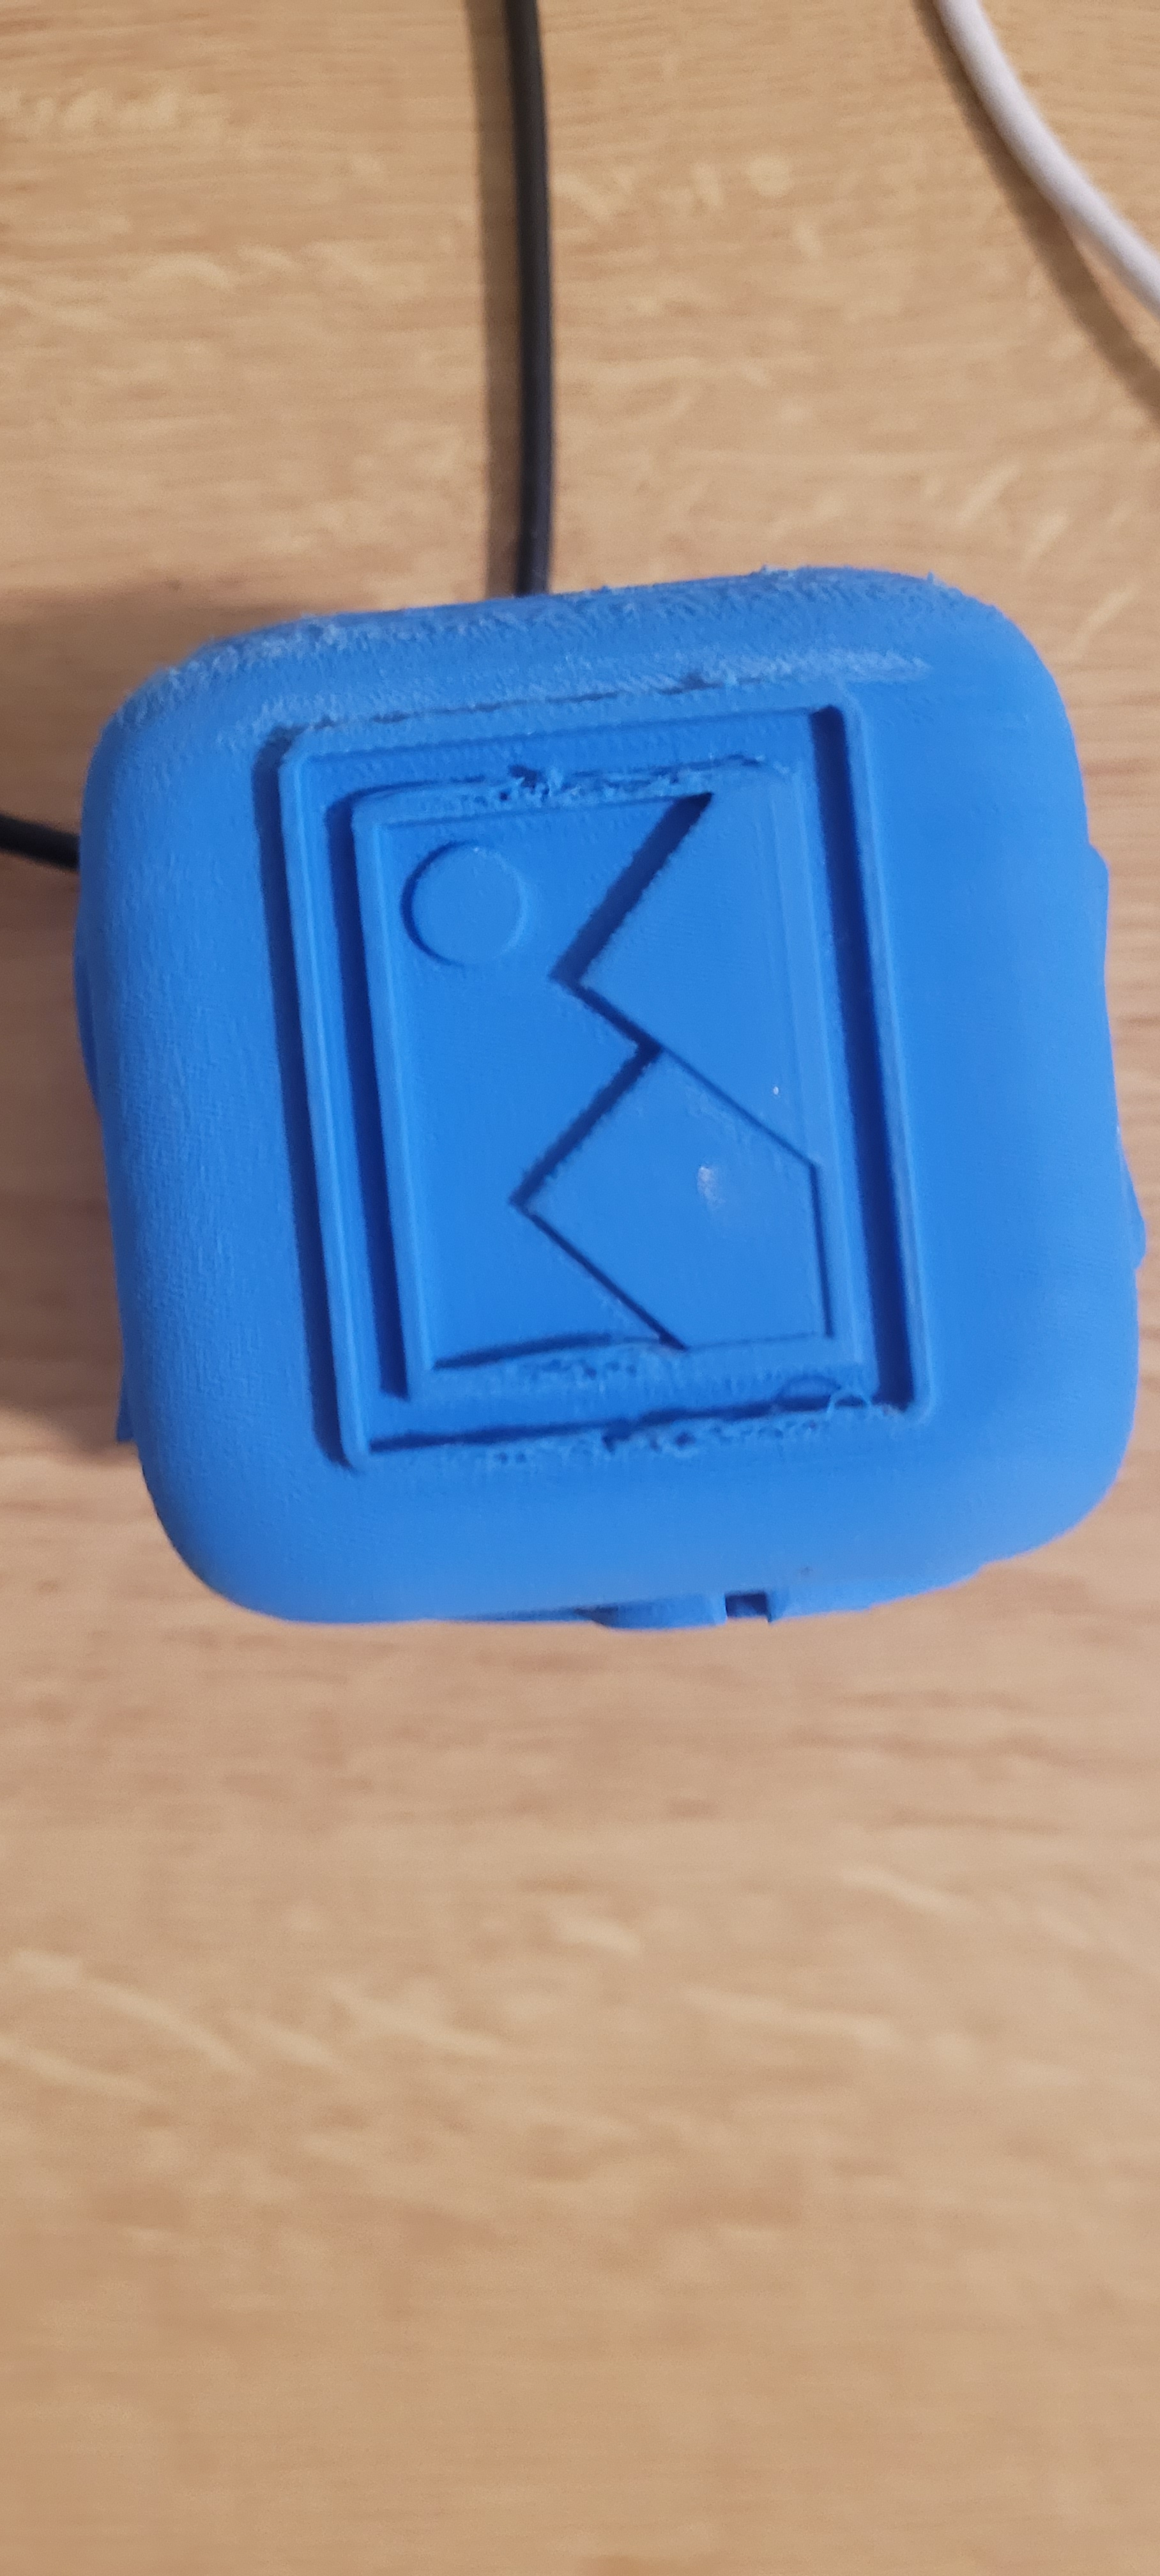Story: (228, 603, 894, 1460)
